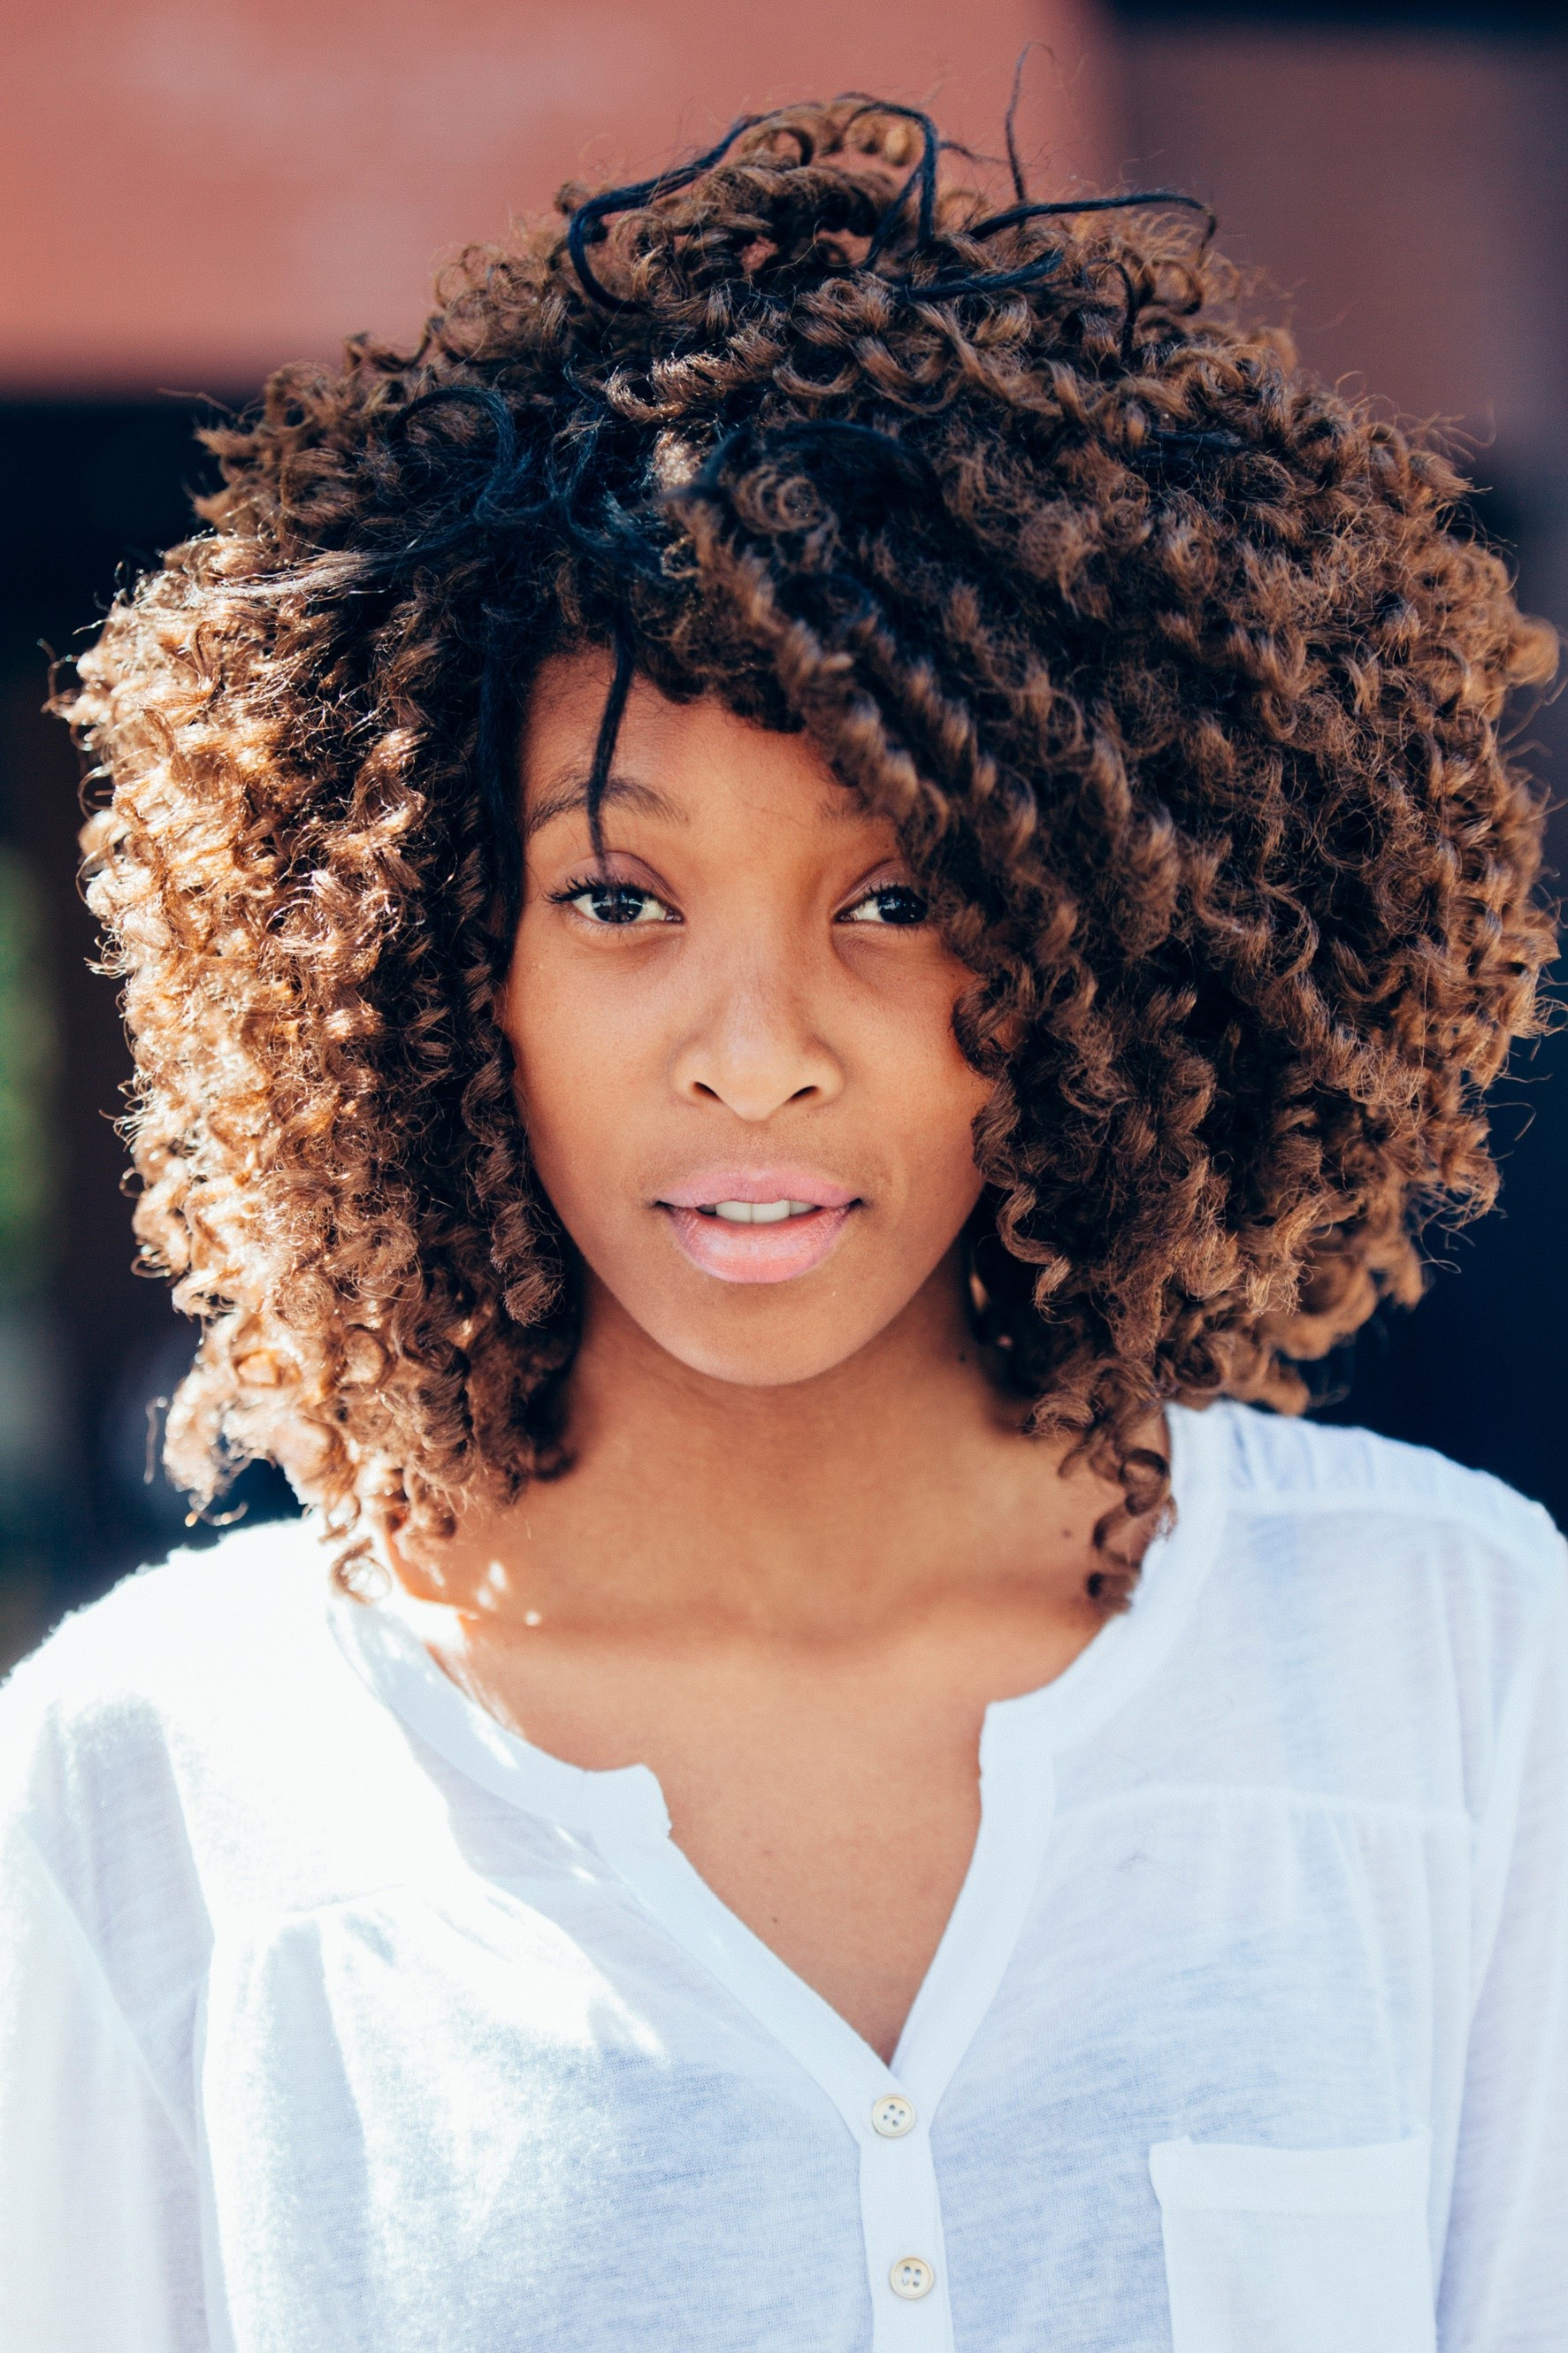face_no_mask: (350, 332, 1134, 1380)
